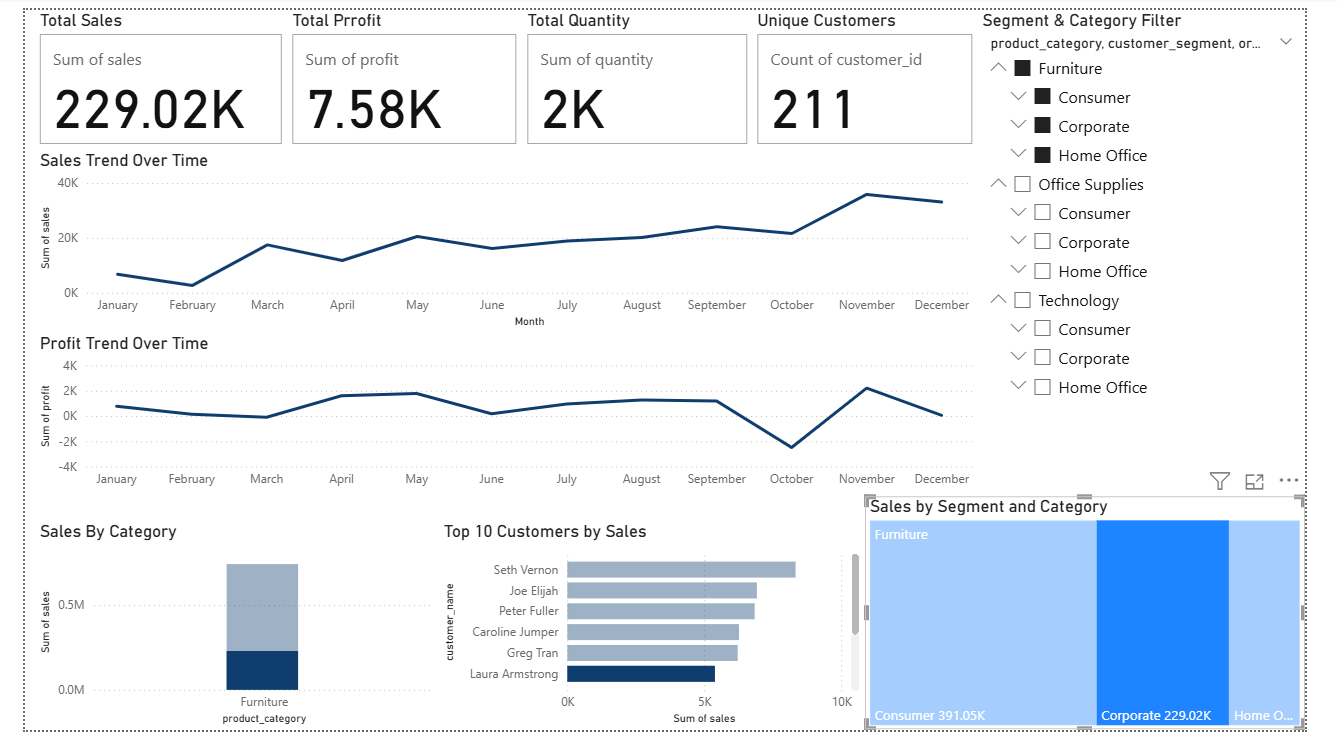

This screenshot's page, from the dashboard's own definition file:
{"tool":"powerbi","page":{"name":"Page 1","canvas":[1280,720],"ordinal":0},"visuals":[{"type":"cardVisual","title":"Total Sales","fields":{"Data":["Sum(public vw_sales_analysis.sales)"]},"box":[10,0,252.9,140],"z":0},{"type":"cardVisual","title":"Total Prrofit","fields":{"Data":["Sum(public vw_sales_analysis.profit)"]},"box":[262.9,0,234.3,140],"z":1000},{"type":"cardVisual","title":"Total Quantity","fields":{"Data":["Sum(public vw_sales_analysis.quantity)"]},"box":[497.1,0,230,140],"z":2000},{"type":"cardVisual","title":"Unique Customers","fields":{"Data":["Count(public vw_sales_analysis.customer_id)"]},"box":[727.1,0,225.7,140],"z":3000},{"type":"lineChart","title":"Sales Trend Over Time","fields":{"Y":["Sum(public vw_sales_analysis.sales)"],"Category":["public vw_sales_analysis.order_date.Variation.Date Hierarchy.Year","public vw_sales_analysis.order_date.Variation.Date Hierarchy.Quarter","public vw_sales_analysis.order_date.Variation.Date Hierarchy.Month","public vw_sales_analysis.order_date.Variation.Date Hierarchy.Day"]},"box":[10,140,942.9,182.9],"z":4000},{"type":"lineChart","title":"Profit Trend Over Time ","fields":{"Category":["public vw_sales_analysis.order_date.Variation.Date Hierarchy.Year","public vw_sales_analysis.order_date.Variation.Date Hierarchy.Quarter","public vw_sales_analysis.order_date.Variation.Date Hierarchy.Month","public vw_sales_analysis.order_date.Variation.Date Hierarchy.Day"],"Y":["Sum(public vw_sales_analysis.profit)"]},"box":[10,322.9,942.9,164.3],"z":5000},{"type":"clusteredColumnChart","title":"Sales By Category","fields":{"Y":["Sum(public vw_sales_analysis.sales)"],"Category":["public vw_sales_analysis.product_category"]},"box":[10,511.4,404.3,208.6],"z":6000},{"type":"barChart","title":"Top 10 Customers by Sales","fields":{"Category":["public vw_sales_analysis.customer_name"],"Y":["Sum(public vw_sales_analysis.sales)"]},"box":[414.3,511.4,425.7,208.6],"z":7000},{"type":"slicer","title":"Segment & Category Filter","fields":{"Values":["public vw_sales_analysis.product_category","public vw_sales_analysis.customer_segment","public vw_sales_analysis.order_quarter","public vw_sales_analysis.order_year"]},"box":[952.5,0,327.5,486.2],"z":8000},{"type":"treemap","title":"Sales by Segment and Category","fields":{"Group":["public vw_sales_analysis.product_category"],"Values":["Sum(public vw_sales_analysis.sales)"],"Details":["public vw_sales_analysis.customer_segment"]},"box":[840,485.7,440,234.3],"z":9000}]}

Visuals, with their boxes in screenshot pixels (x1, y1, x2, y2), scaled from the page's 1280x720 canvas onto the 1337x742 screenshot:
"Total Sales" cardVisual: [10,0,275,144]
"Total Prrofit" cardVisual: [275,0,519,144]
"Total Quantity" cardVisual: [519,0,759,144]
"Unique Customers" cardVisual: [759,0,995,144]
"Sales Trend Over Time" lineChart: [10,144,995,333]
"Profit Trend Over Time " lineChart: [10,333,995,502]
"Sales By Category" clusteredColumnChart: [10,527,433,741]
"Top 10 Customers by Sales" barChart: [433,527,877,741]
"Segment & Category Filter" slicer: [995,0,1336,501]
"Sales by Segment and Category" treemap: [877,501,1336,741]
